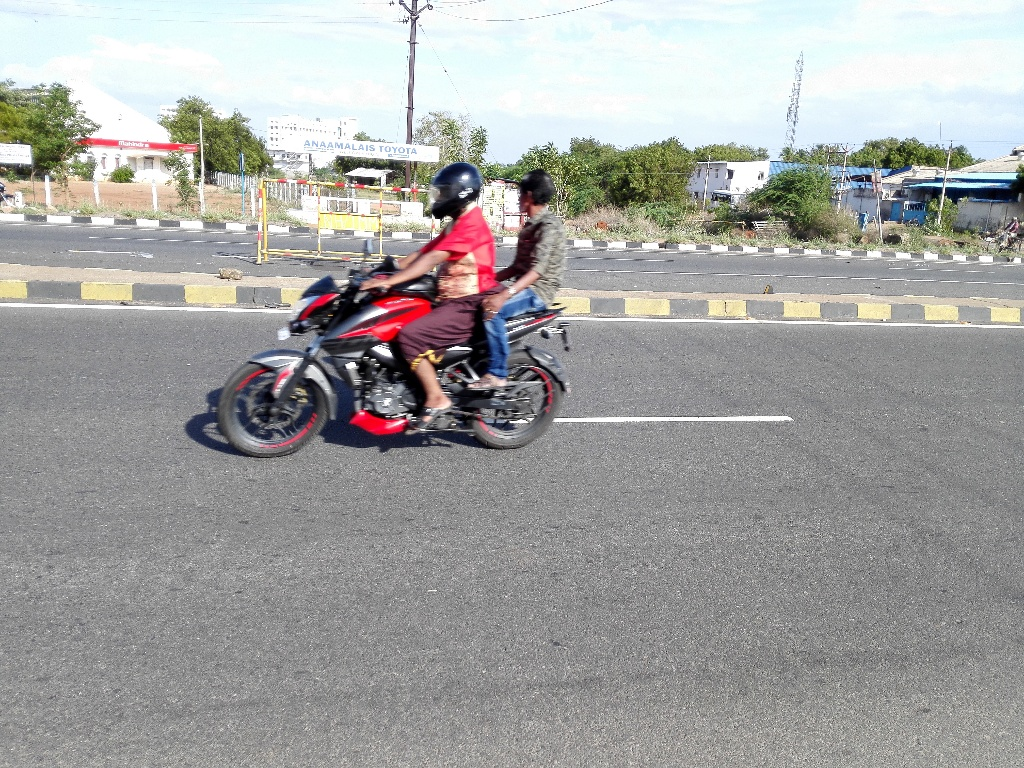biker: (179, 143, 602, 471)
helmet: (412, 152, 491, 231)
nohelmet: (510, 161, 562, 226)
